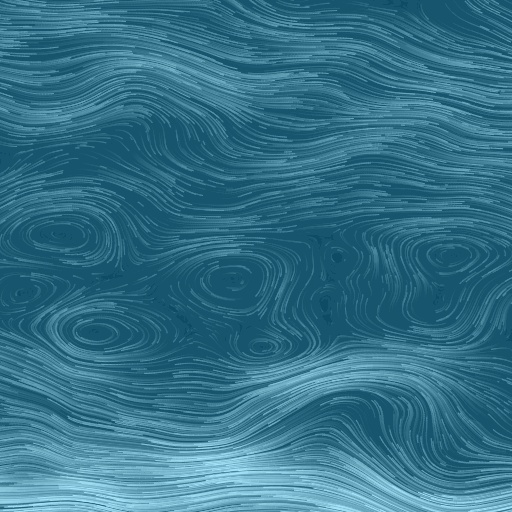eddy: (396, 229, 503, 335), (4, 202, 122, 272), (173, 248, 287, 316), (54, 299, 162, 362), (243, 332, 283, 363)
